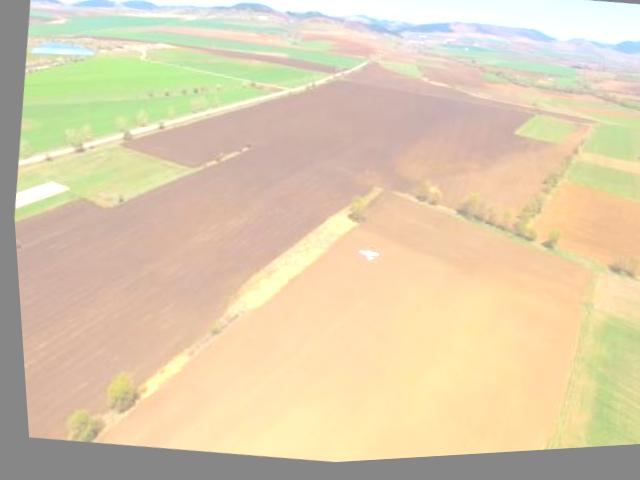uav: (351, 246, 379, 271)
